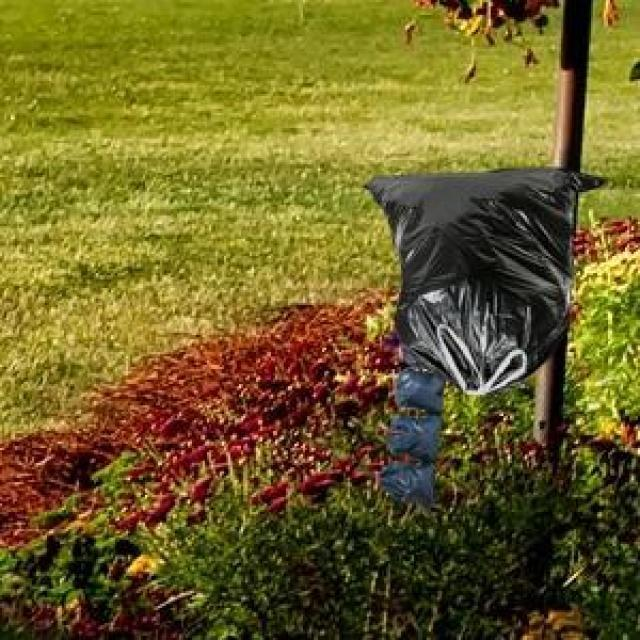Vinyl: (368, 169, 601, 504)
